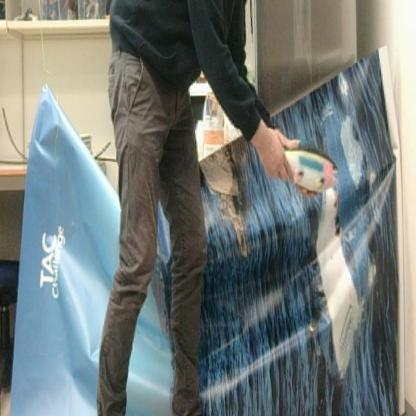rubberfish: (264, 134, 340, 198)
